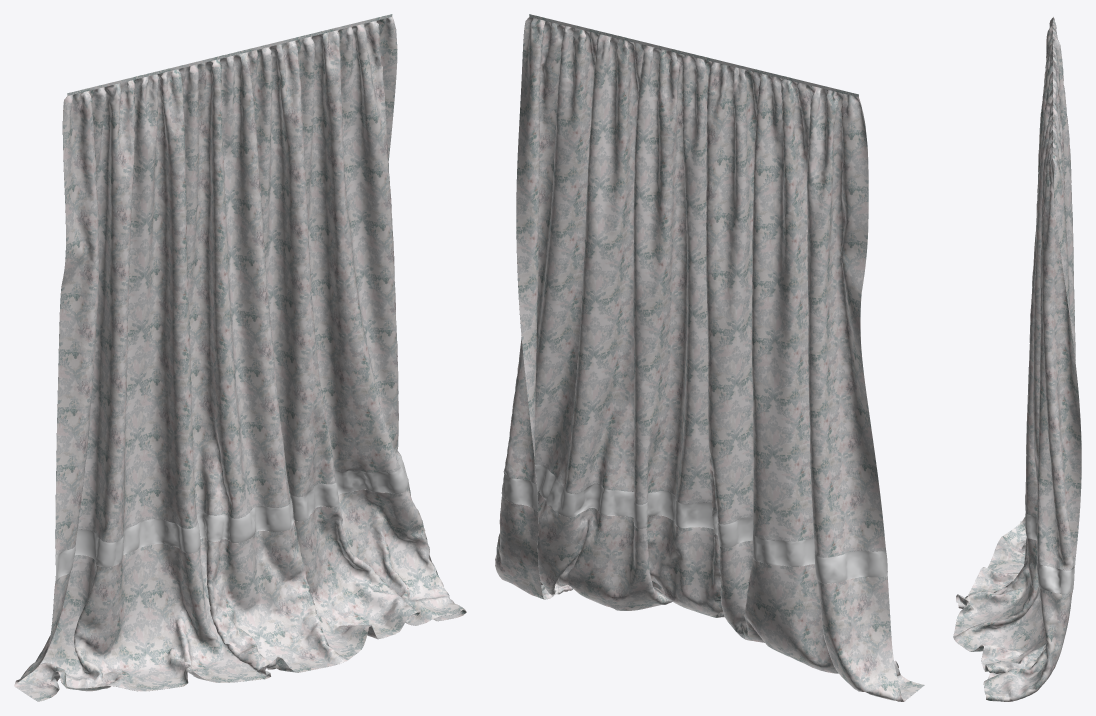
The model's file is obj_curtain_fabric_with_organic__0d672a.glb.
3 renders of one model, left to right at view 1: azimuth 30°, elevation 25°; view 2: azimuth 150°, elevation 25°; view 3: azimuth 270°, elevation 25°, orthographic. The views are drawn at different scales.
Parts seen in each view (by area): view 1: obj_curtain_fabric_with_organic__0d672a; view 2: obj_curtain_fabric_with_organic__0d672a; view 3: obj_curtain_fabric_with_organic__0d672a.
Boxes of the visible parts, x1,y1,x2,y2 form: obj_curtain_fabric_with_organic__0d672a: (14,14,466,701); obj_curtain_fabric_with_organic__0d672a: (495,14,924,701); obj_curtain_fabric_with_organic__0d672a: (953,17,1081,701).
Size of the model in its own units: 1.41 by 1.9 by 0.4186.
Materials: 2 (1 with a texture image).
